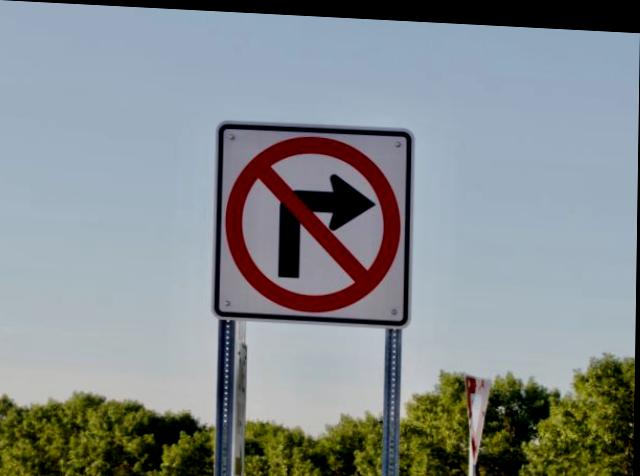not_turn_right: (221, 123, 408, 319)
